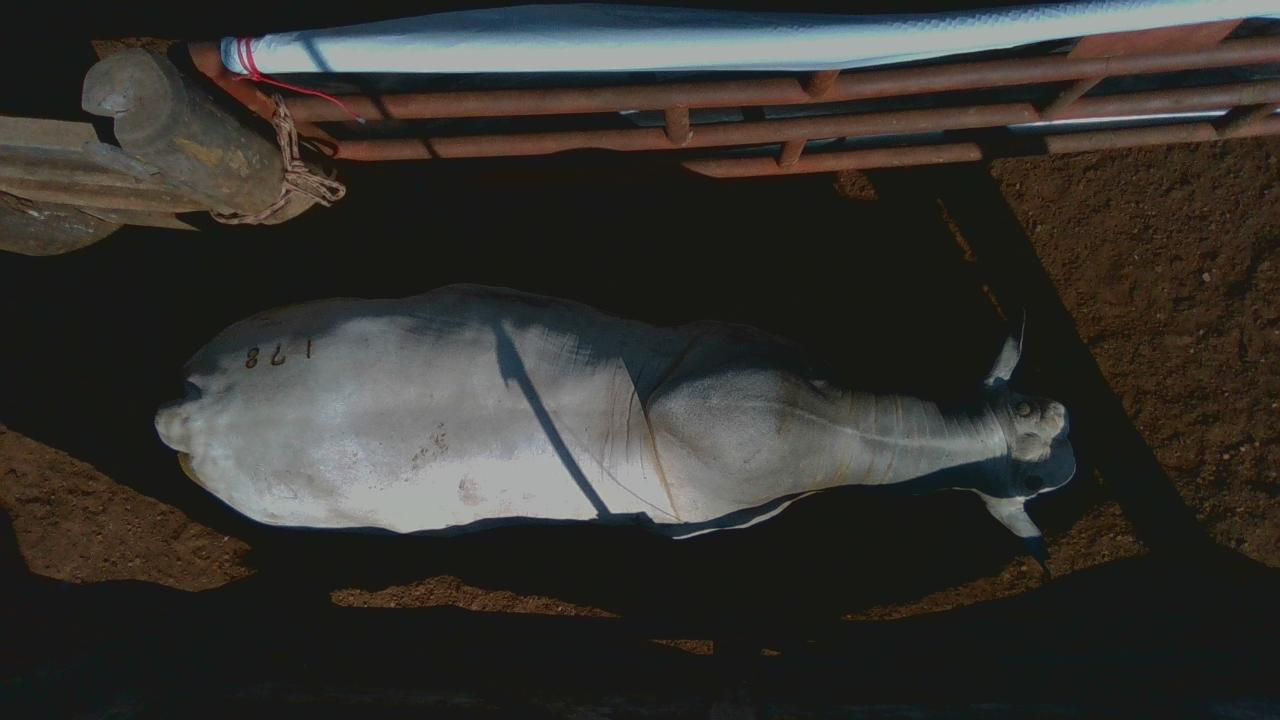cattle: (153, 280, 1077, 570)
